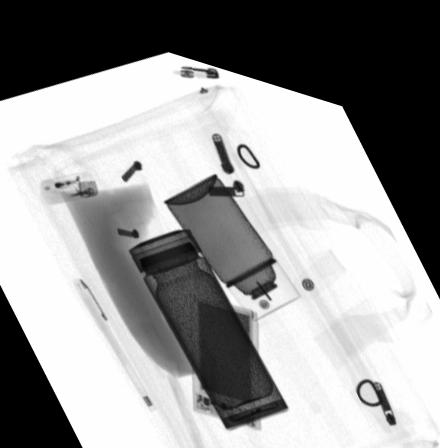Lighter: (40, 164, 97, 200)
Powerbank: (188, 278, 260, 412)
Sprayer: (161, 159, 301, 303)
